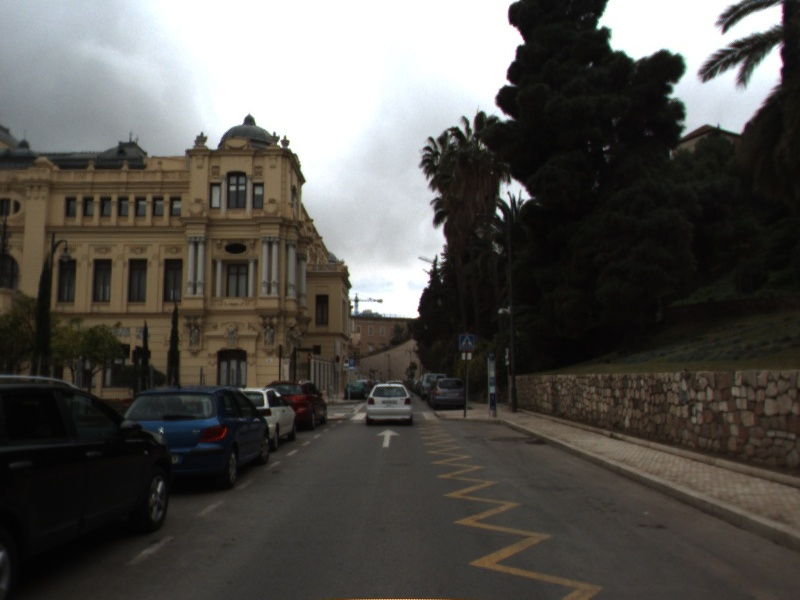STRAIGHT: (374, 427, 402, 449)
